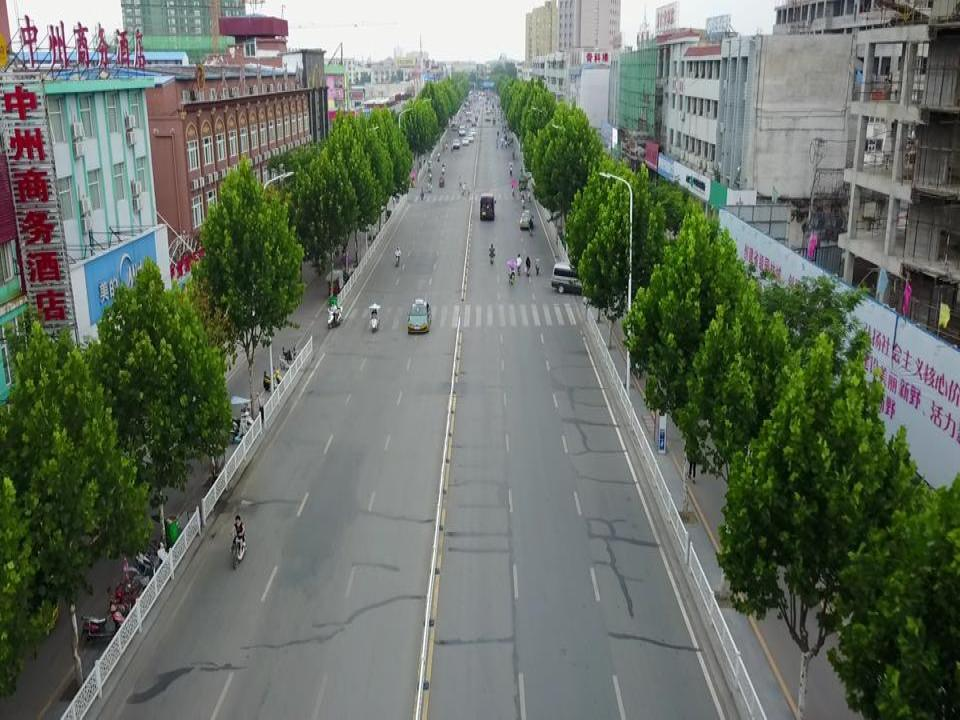car: (406, 298, 432, 334), (518, 209, 535, 227), (453, 137, 460, 148), (467, 133, 473, 143), (462, 135, 468, 144), (469, 128, 475, 136)
van: (551, 260, 598, 296), (480, 192, 497, 220), (458, 127, 465, 136)
